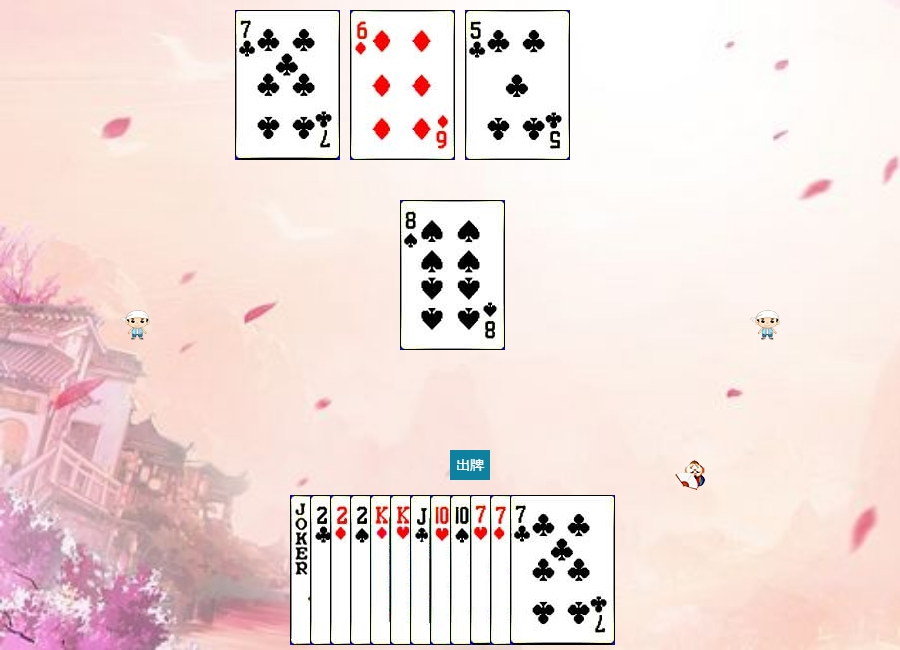10~3: (430, 495, 535, 645)
10~4: (450, 495, 555, 645)
11~2: (410, 495, 515, 645)
13~1: (370, 495, 475, 645)
13~3: (390, 495, 495, 645)
15~1: (330, 495, 435, 645)
15~2: (310, 495, 415, 645)
15~4: (350, 495, 455, 645)
17~3: (290, 495, 395, 645)
5~2: (465, 10, 570, 160)
6~1: (350, 10, 455, 160)
7~1: (490, 495, 595, 645)
7~2: (235, 10, 340, 160), (510, 495, 615, 645)
7~3: (470, 495, 575, 645)
8~4: (400, 200, 505, 350)
